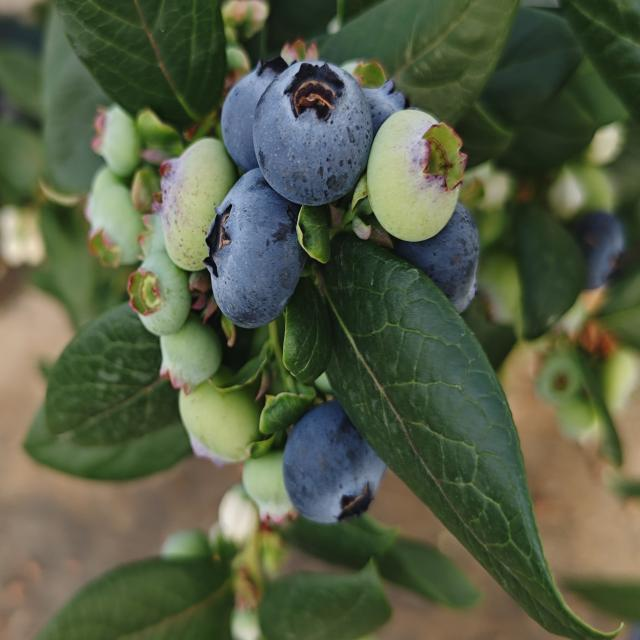ripe: (250, 51, 370, 210), (193, 189, 302, 326), (268, 395, 381, 521), (387, 212, 502, 318), (219, 47, 305, 176), (346, 54, 418, 171), (556, 203, 634, 298)
